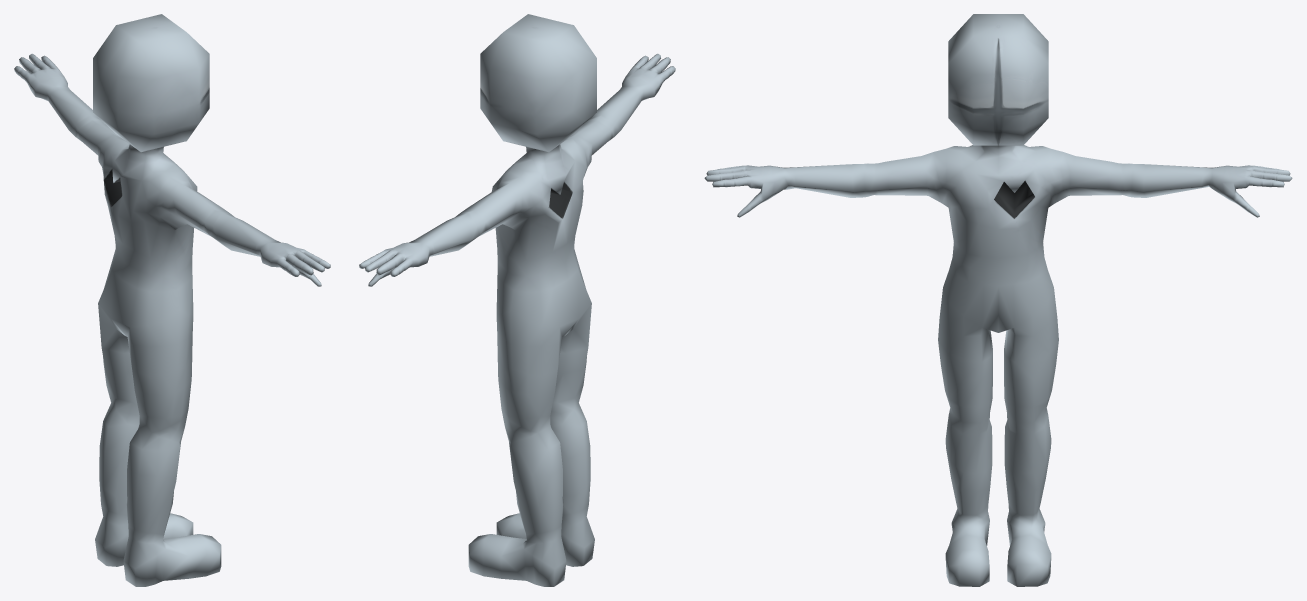
Rendered from character.fbx.
3 renders of one model, left to right at view 1: azimuth 30°, elevation 25°; view 2: azimuth 150°, elevation 25°; view 3: azimuth 270°, elevation 25°, orthographic.
Parts seen in each view (by area): view 1: pCube6; view 2: pCube6; view 3: pCube6.
Boxes of the visible parts, bbox=[...] form: pCube6: bbox=[14, 14, 330, 586]; pCube6: bbox=[359, 14, 675, 586]; pCube6: bbox=[704, 14, 1292, 586].
Size of the model in its own units: 28.69 by 151 by 150.
